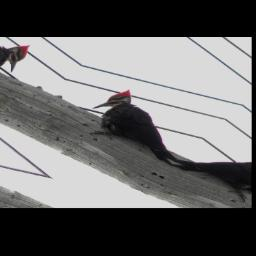Woodpecker: (69, 83, 216, 169)
